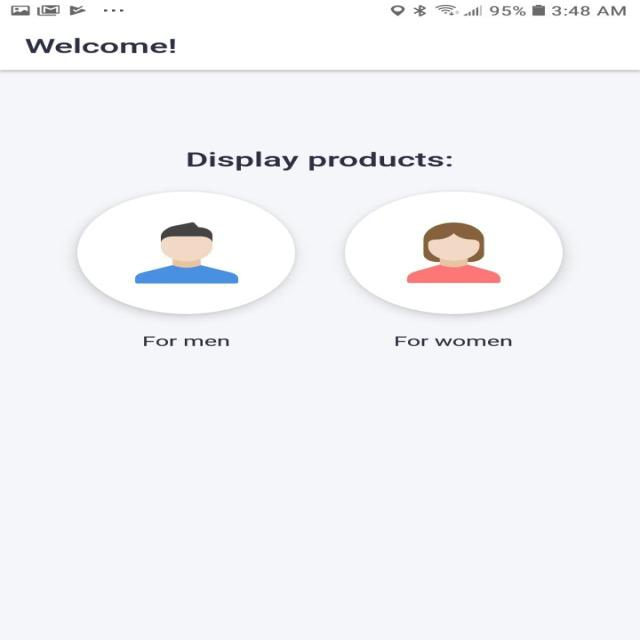Image: (343, 191, 563, 315), (77, 191, 296, 315)
Text: (186, 151, 452, 171), (25, 38, 176, 53), (394, 336, 512, 346), (143, 336, 230, 346)
